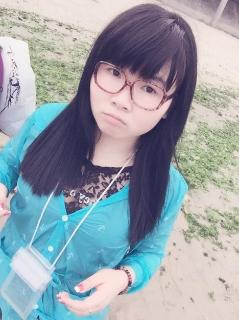long sleeve top: (0, 103, 189, 319)
